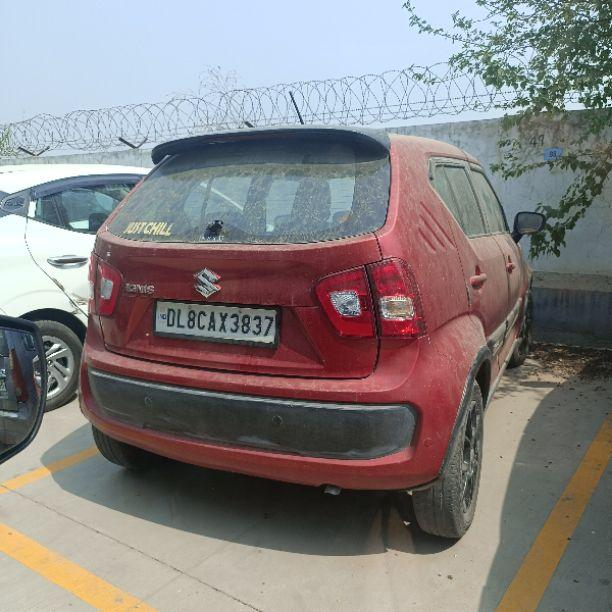license_plate: (151, 299, 281, 348)
